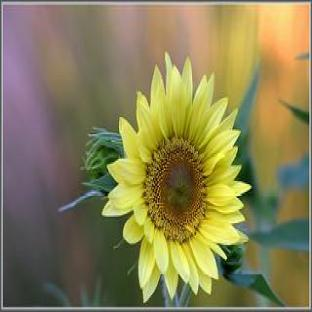sunflower: (101, 55, 252, 303)
